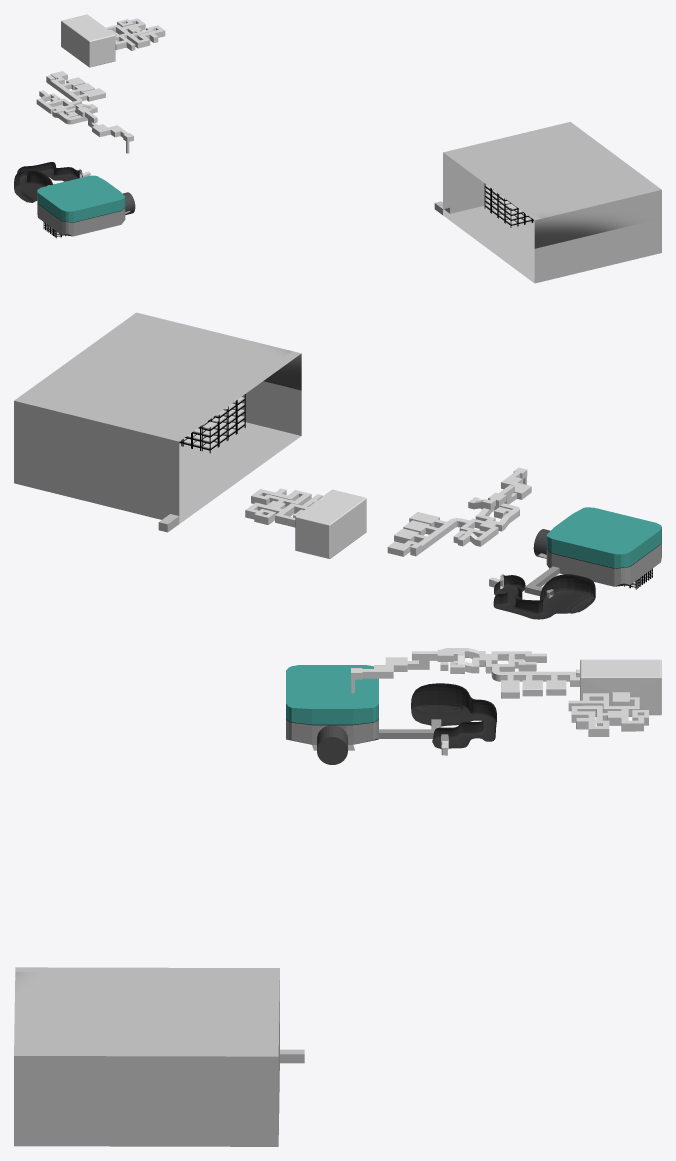
The model's file is Map.fbx.
3 views of the same model, one above another, from view 1: azimuth 30°, elevation 25°; view 2: azimuth 150°, elevation 25°; view 3: azimuth 270°, elevation 25° (orthographic). The views are drawn at different scales.
Visible parts, largest first — view 1: Cube.005, Cube.004, Cube.006, Cube, Cube.003; view 2: Cube.005, Cube.004, Cube.006, Cube, Cube.003; view 3: Cube.005, Cube.004, Cube.006, Cube, Cylinder.
Part boxes in pixels (<box>): Cube.005: <box>434,122,661,283</box>; Cube.004: <box>36,14,165,153</box>; Cube.006: <box>37,175,130,236</box>; Cube: <box>14,162,82,202</box>; Cube.003: <box>484,183,533,227</box>; Cube.005: <box>14,312,301,532</box>; Cube.004: <box>245,467,531,558</box>; Cube.006: <box>524,507,661,598</box>; Cube: <box>493,574,595,619</box>; Cube.003: <box>179,394,245,453</box>; Cube.005: <box>14,967,304,1146</box>; Cube.004: <box>351,648,661,736</box>; Cube.006: <box>286,665,441,750</box>; Cube: <box>411,683,496,748</box>; Cylinder: <box>317,725,347,764</box>.
Size of the model in its own units: 5329 by 1603 by 4169.
